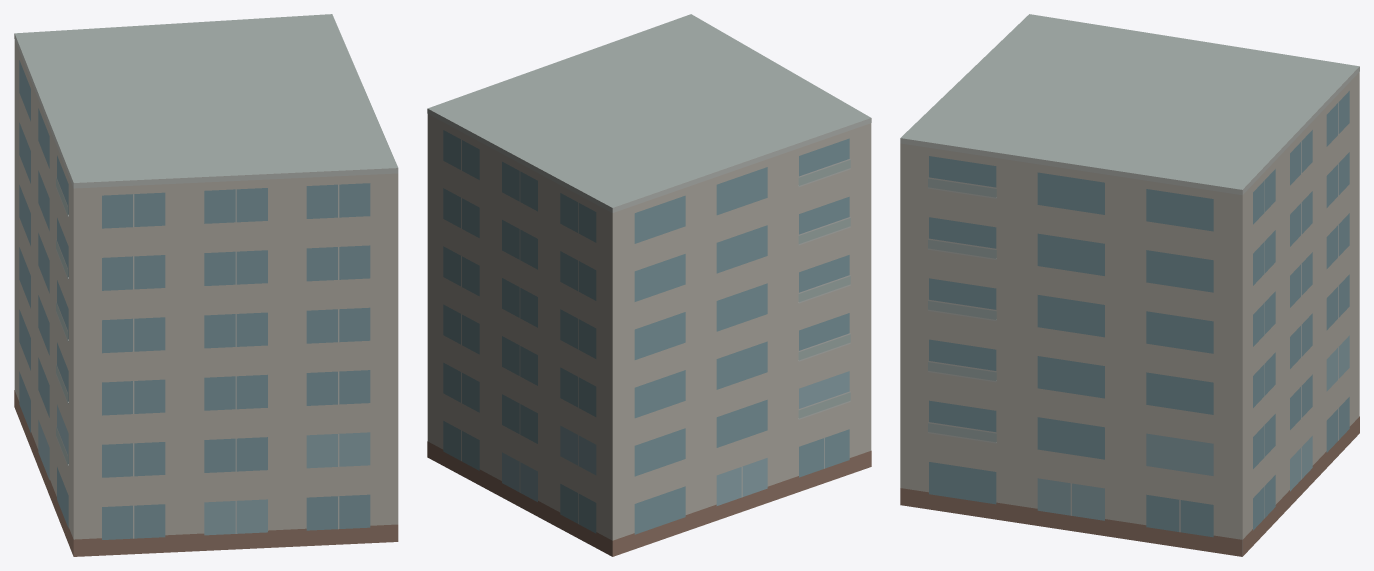
Rendered from survey-upis-32959790.glb.
3 views of the same model, side by side, from view 1: azimuth 30°, elevation 25°; view 2: azimuth 150°, elevation 25°; view 3: azimuth 270°, elevation 25° (orthographic). The views are drawn at different scales.
Visible parts, largest first — view 1: survey-upis-32959790.tmp; view 2: survey-upis-32959790.tmp; view 3: survey-upis-32959790.tmp.
Part boxes in pixels (<box>): survey-upis-32959790.tmp: <box>14,14,398,556</box>; survey-upis-32959790.tmp: <box>427,14,871,556</box>; survey-upis-32959790.tmp: <box>900,14,1359,556</box>.
Bounding box in the file's own units: 17.07 × 16.6 × 18.84.
